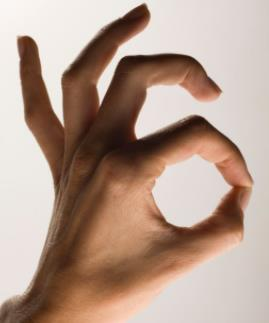left: (10, 1, 255, 305)
